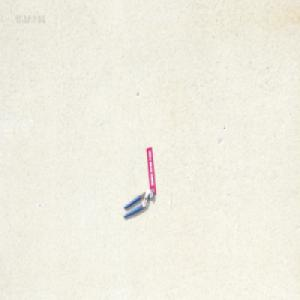Label: (145, 148, 156, 196)
Pliers: (122, 189, 154, 220)
